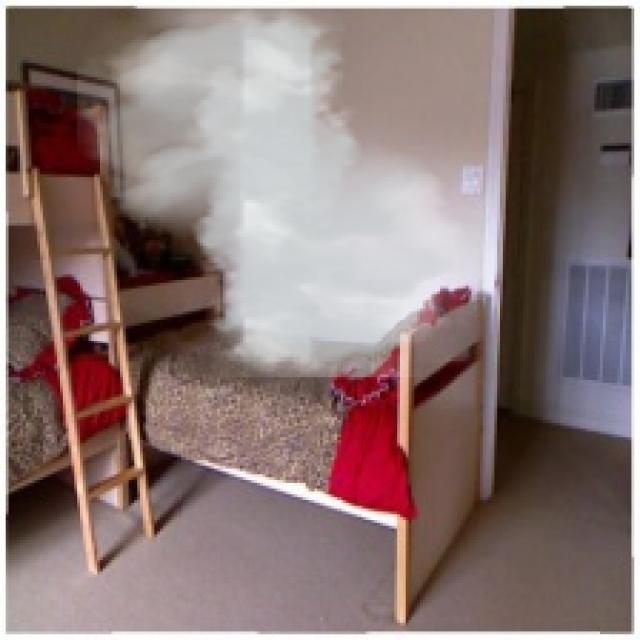smoke: (77, 6, 477, 377)
